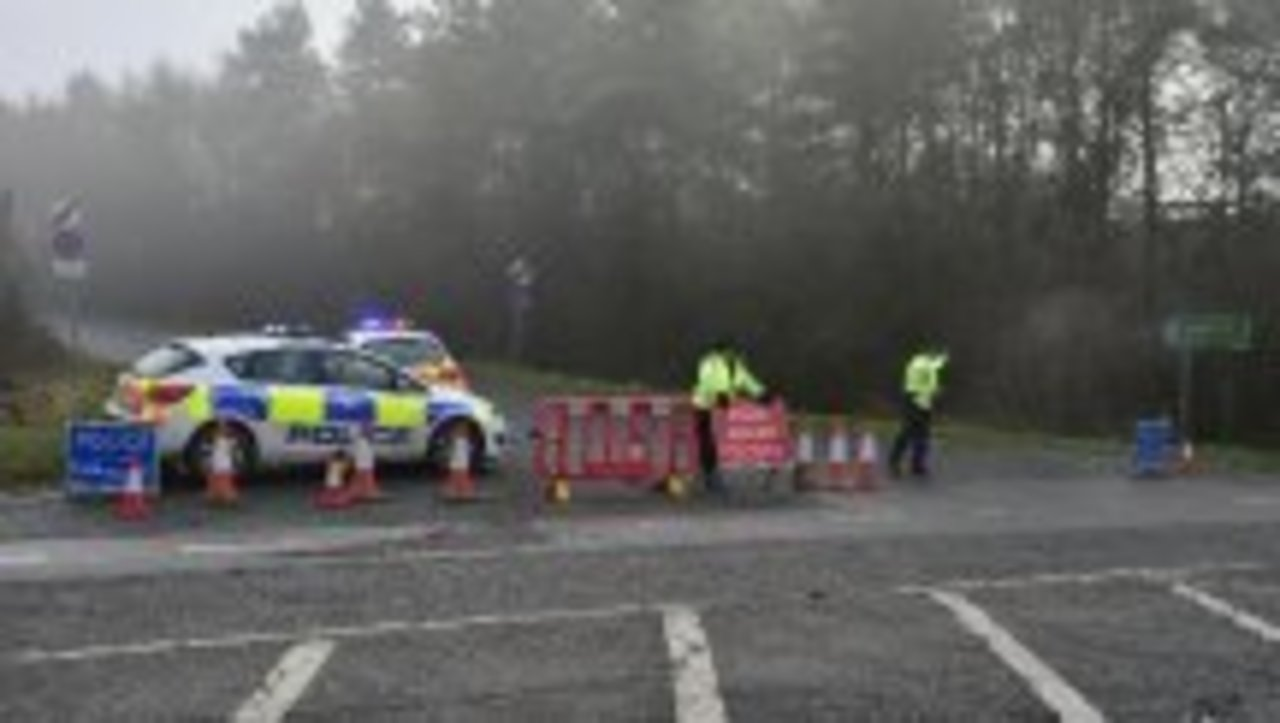car: (85, 336, 499, 486), (341, 320, 464, 398)
person: (695, 333, 773, 499), (886, 335, 951, 479)
